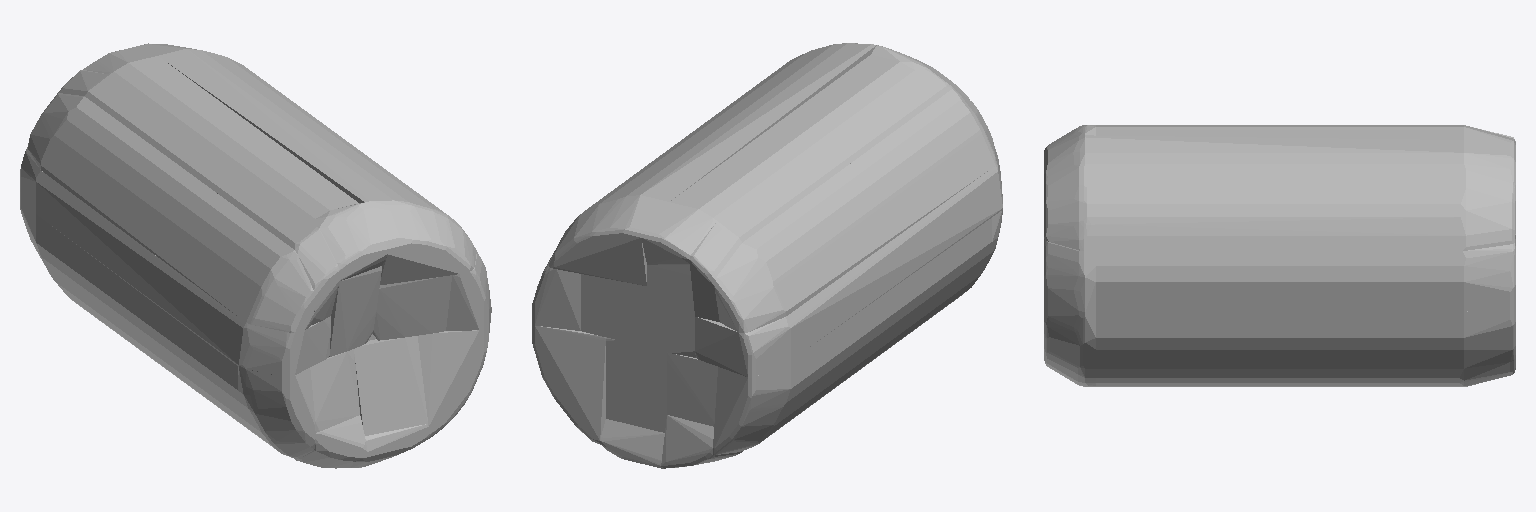
URDF robot description (root):
<?xml version="1.0"?>
<robot name="root">
  <link name="base_link">
    <visual>
      <origin xyz="0 0 0" rpy="0 0 0" />
      <geometry>
        <mesh filename="../meshes/unidex_core_can-adaaccc7f642dee1288ef234853f8b4d_006.obj" scale="1.0000E+00 1.0000E+00 1.0000E+00" />
      </geometry>
      <material name="">
        <color rgba="7.50E-01 7.50E-01 7.50E-01 1" />
      </material>
    </visual>
    <collision>
      <origin xyz="0 0 0" rpy="0 0 0" />
      <geometry>
        <mesh filename="../meshes/unidex_core_can-adaaccc7f642dee1288ef234853f8b4d_006.obj" scale="1.0000E+00 1.0000E+00 1.0000E+00" />
      </geometry>
    </collision>
  </link>
</robot>

--- What the picture shows (computed from the rendered views, not written in the file) ---
Views: 3 orthographic renders of the robot side by side, from view 1: azimuth 30°, elevation 25°; view 2: azimuth 150°, elevation 25°; view 3: azimuth 270°, elevation 25°.
Robot: root — 1 links, 0 joints (none); root link base_link; default pose: every joint at zero.
Visible links, largest first — view 1: base_link; view 2: base_link; view 3: base_link.
Link boxes in pixels (x1,y1,x2,y2): base_link: (20, 43, 491, 468); base_link: (532, 43, 1002, 468); base_link: (1044, 125, 1515, 386).
Bounding box of the posed robot: 0.0598 × 0.1057 × 0.0598 m (x, y, z).
1 mesh visuals loaded from 1 distinct referenced files (1 OBJ).
